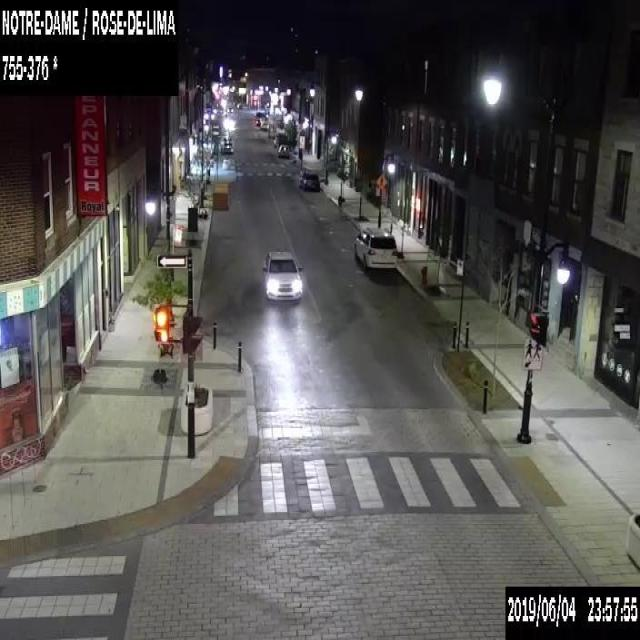vehicle: (262, 250, 303, 298), (354, 227, 396, 270), (298, 169, 320, 190), (220, 140, 233, 154), (277, 144, 289, 157), (255, 111, 266, 120), (259, 120, 268, 128), (227, 105, 233, 112), (255, 118, 261, 124)
